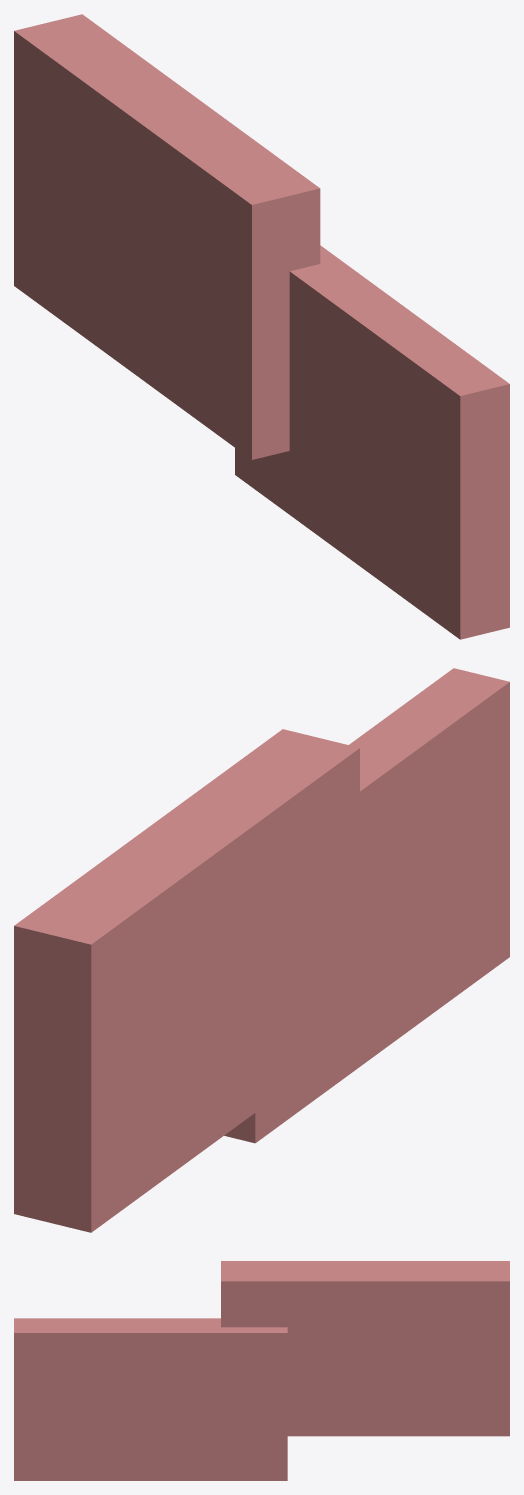
Rendered from 199506_occ.glb.
The picture shows the model from 3 angles, top to bottom: view 1: azimuth 30°, elevation 25°; view 2: azimuth 150°, elevation 25°; view 3: azimuth 270°, elevation 25°; orthographic projection. The views are drawn at different scales.
Visible parts, largest first — view 1: world; view 2: world; view 3: world.
Part boxes in pixels (left/top/right/bottom): world: left=14, top=14, right=509, bottom=639; world: left=14, top=668, right=509, bottom=1232; world: left=14, top=1261, right=509, bottom=1480.
Size of the model in its own units: 1.19 by 4.15 by 9.63.
